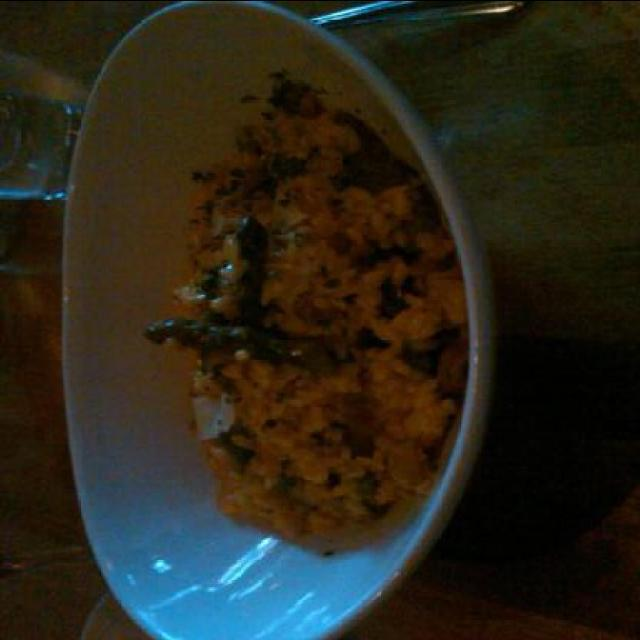Risotto: (155, 73, 457, 550)
